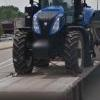Tractor: (7, 5, 100, 85)
